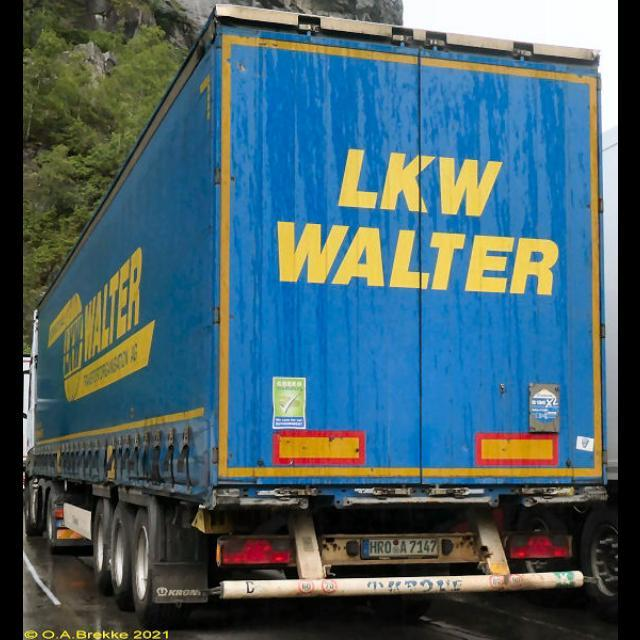license-plates: (362, 539, 439, 560)
